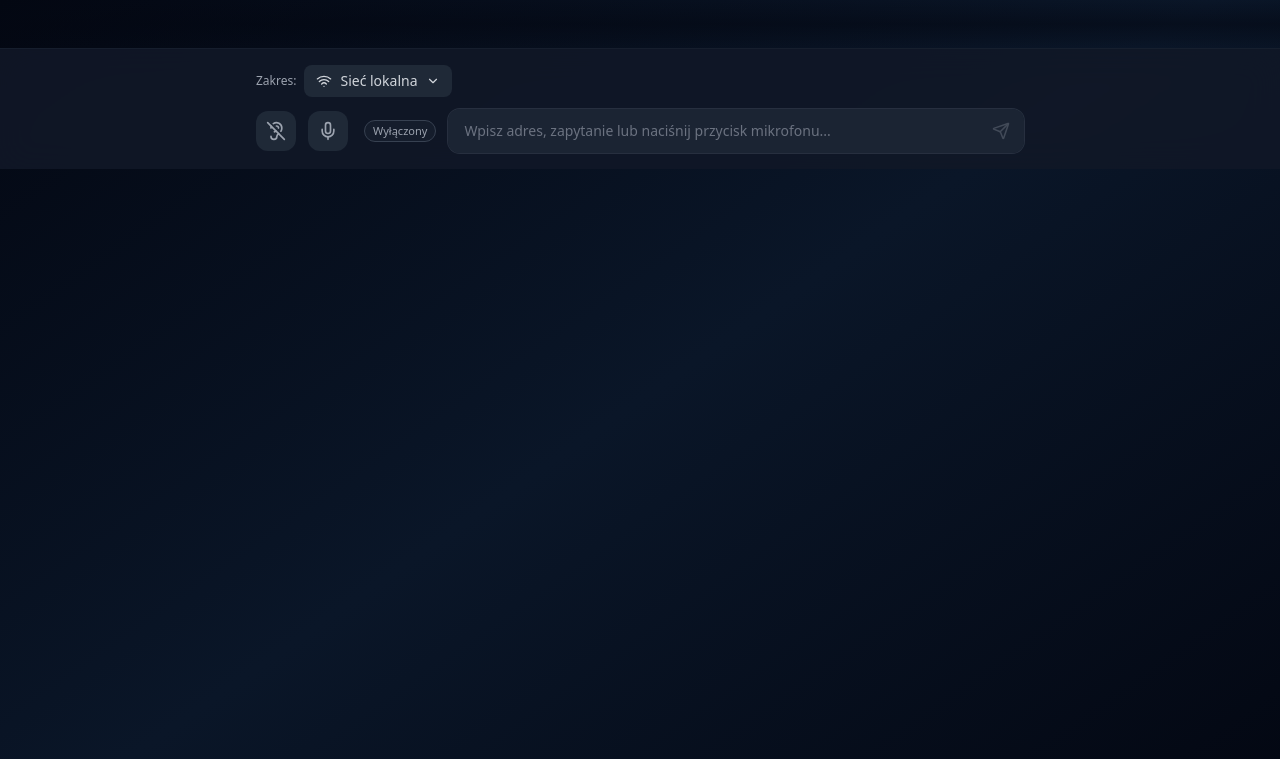
Test: Chat — wpisywanie i wysyłanie › konfiguruj monitoring pokazuje config prompt
This screenshot has width=1280, height=759.
Type "konfiguruj monitoring" into the field with placeholder "Wpisz adres, zapytanie lub naciśnij przycisk mikrofonu...". click: (736, 131)
box: left=448, top=109, right=1024, bottom=153
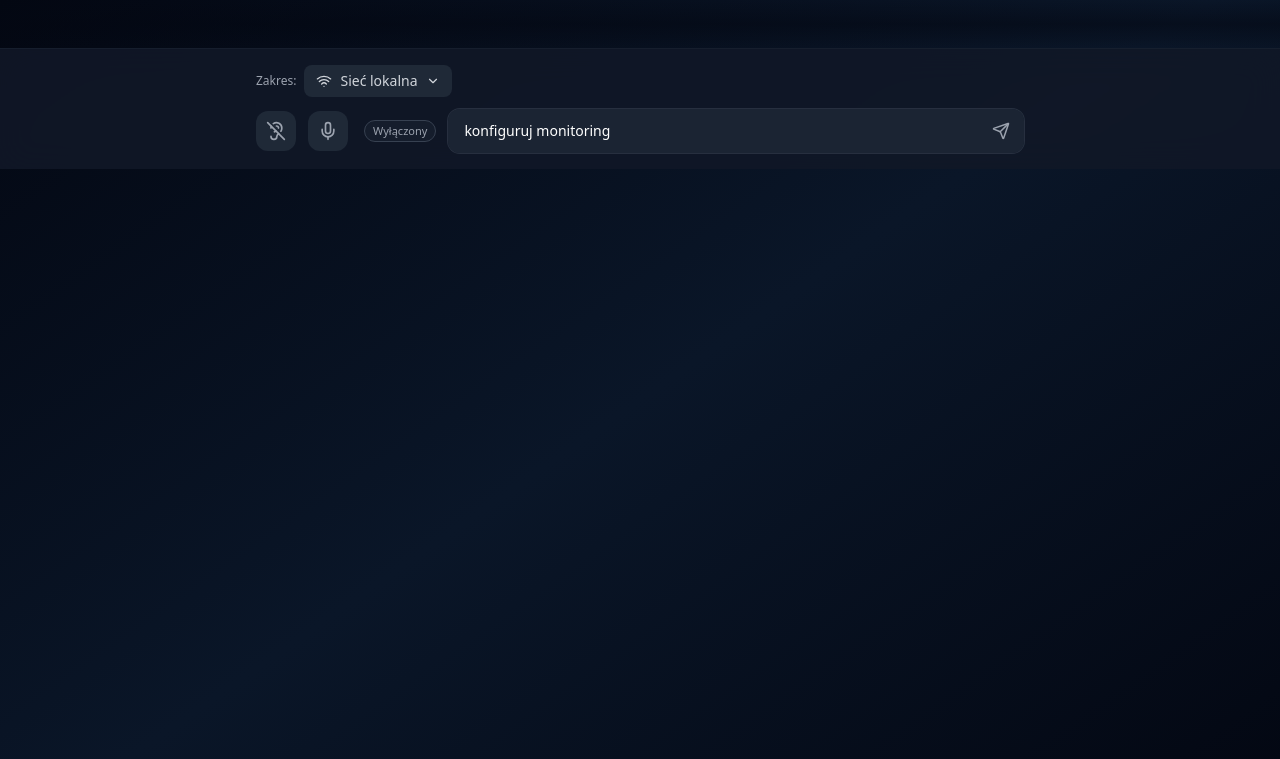
Press Enter in the field with placeholder "Wpisz adres, zapytanie lub naciśnij przycisk mikrofonu...", box left=448, top=109, right=1024, bottom=153
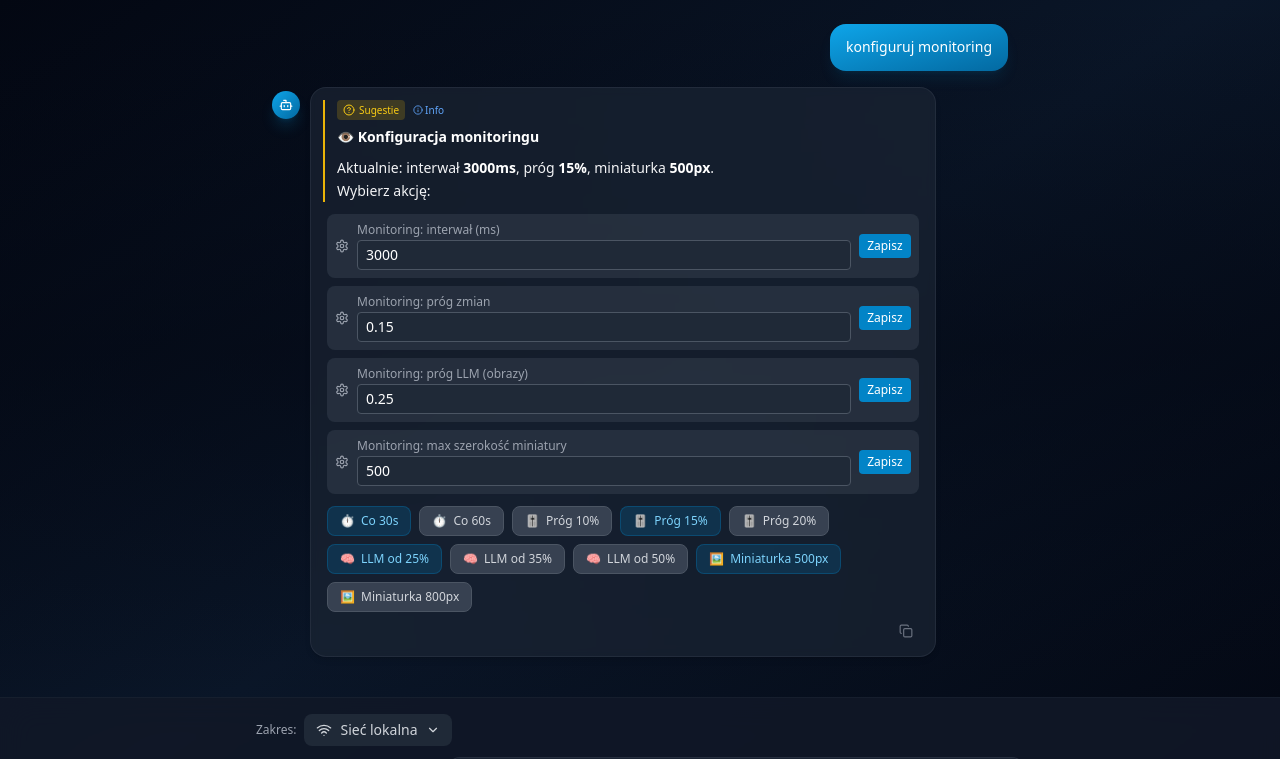
Check: the element with test id "config-prompt" is shown, box left=327, top=214, right=919, bottom=612
Check: the button with test id "config-action-monitor-interval-30s" is shown, box left=327, top=506, right=412, bottom=536
Check: the button with test id "config-action-monitor-threshold-15" is shown, box left=620, top=506, right=721, bottom=536
